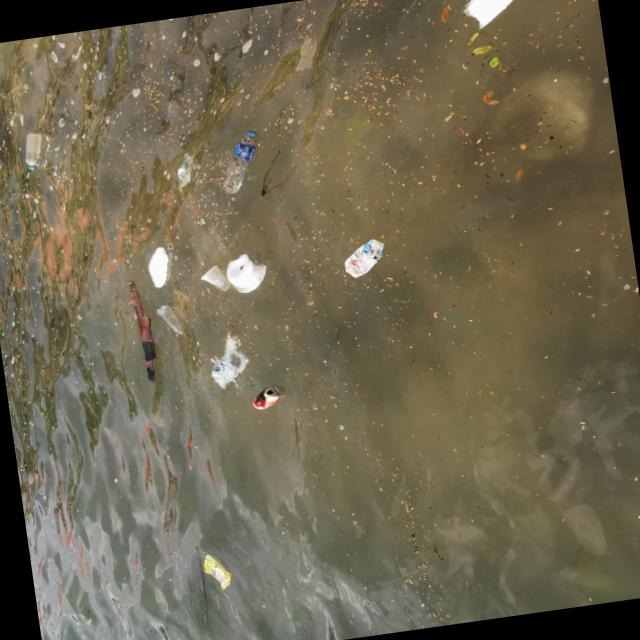can: (253, 386, 283, 410)
foam: (461, 1, 536, 31), (224, 252, 271, 295), (146, 246, 175, 289)
plastic bottle: (221, 129, 261, 194), (158, 301, 191, 344), (24, 132, 47, 171)
